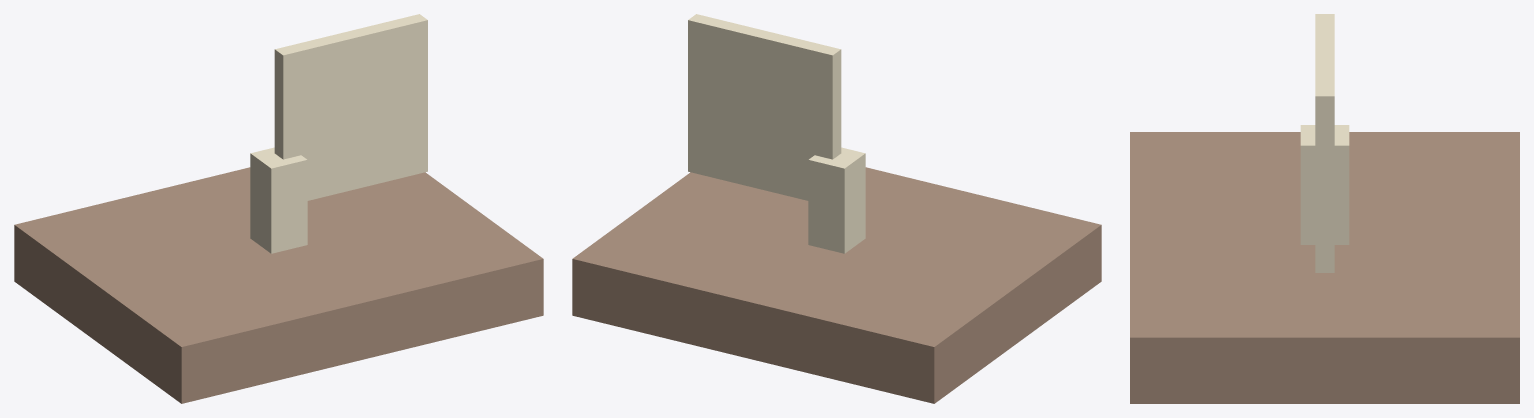
File: harbor.gltf
The picture shows the model from 3 angles, left to right: view 1: azimuth 30°, elevation 25°; view 2: azimuth 150°, elevation 25°; view 3: azimuth 270°, elevation 25°; orthographic projection. The views are drawn at different scales.
Bounding box in the file's own units: 2 × 1.3 × 1.6.
